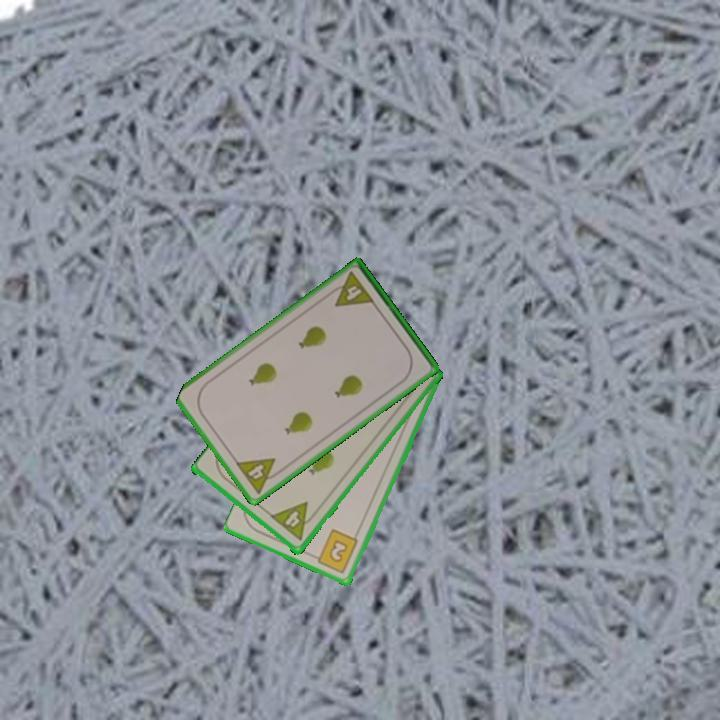2b: (309, 526, 361, 577)
4p: (268, 499, 320, 544), (232, 454, 286, 497), (325, 268, 377, 310)
